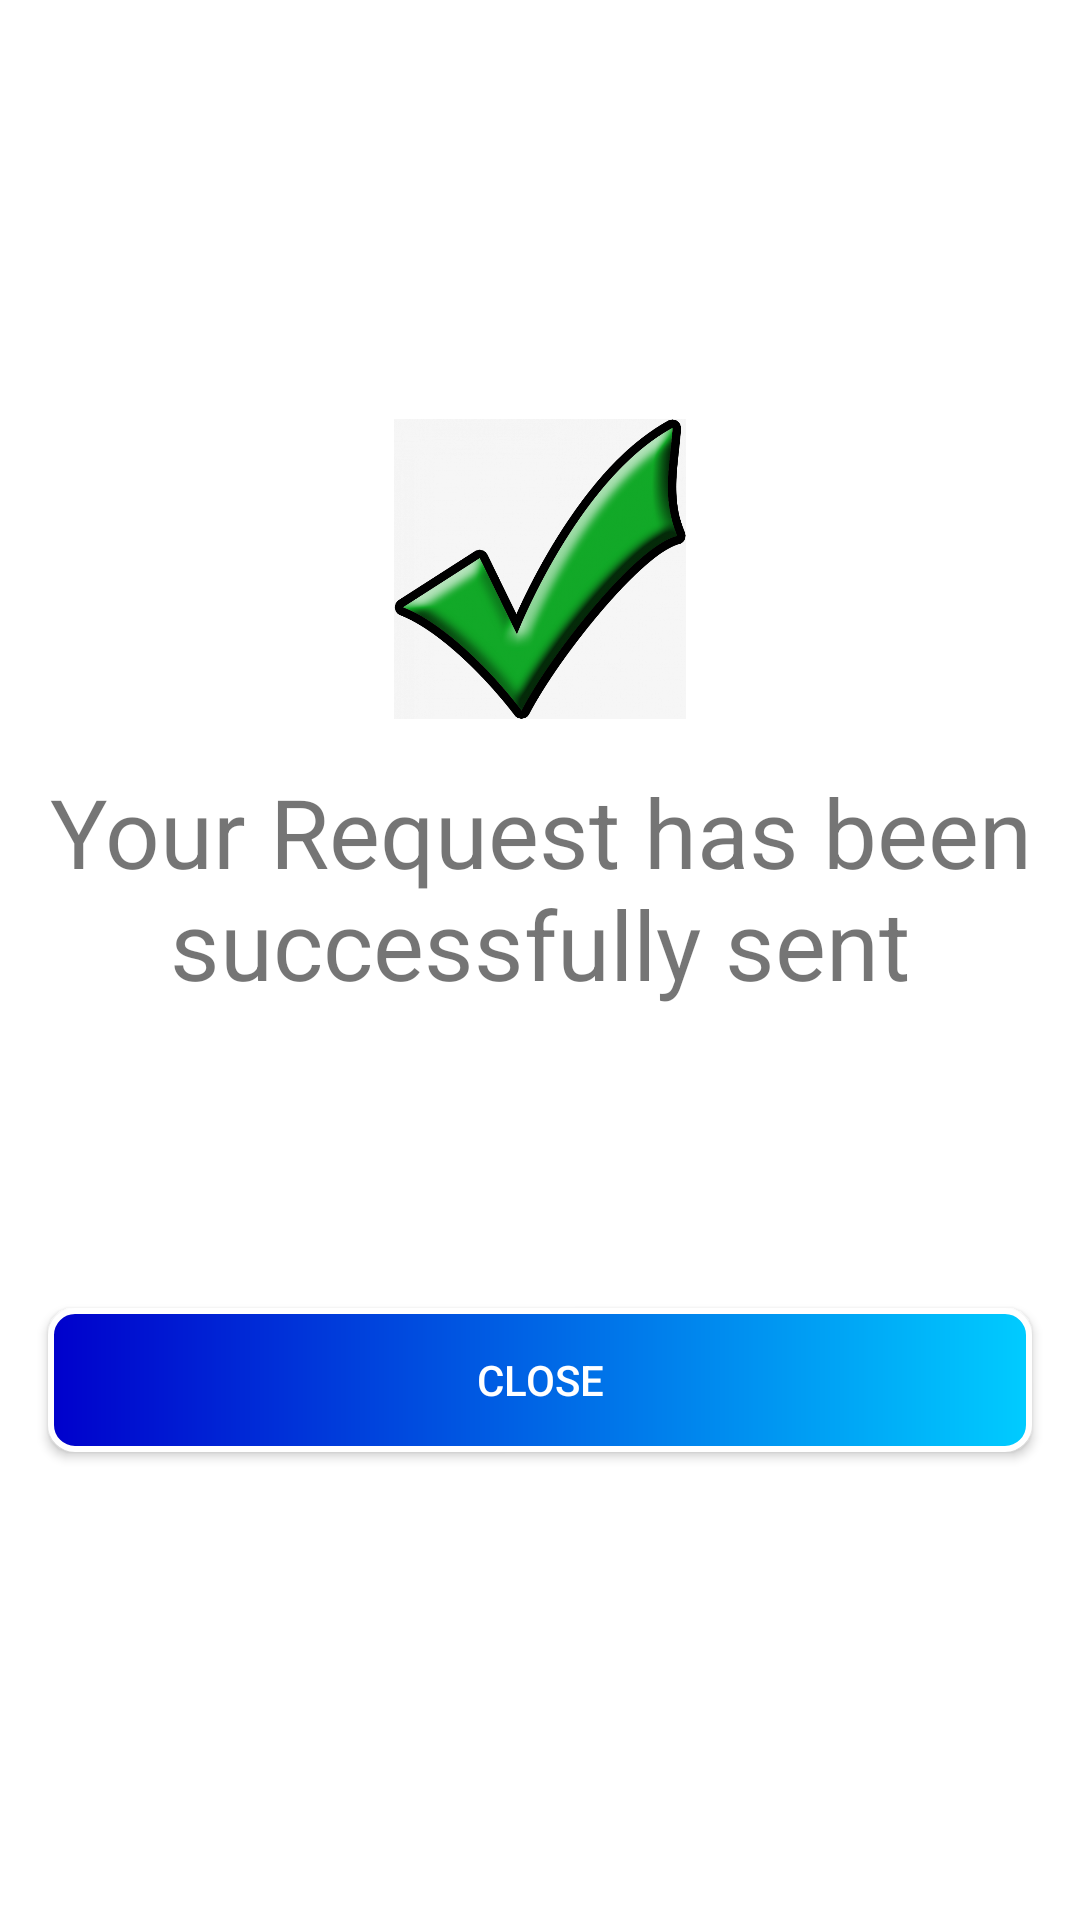

Icon bounding boxes for this 1080 x 1920 phone screenshot, format bbox(x1, y1, x2, y2):
tick: bbox(394, 419, 686, 719)
